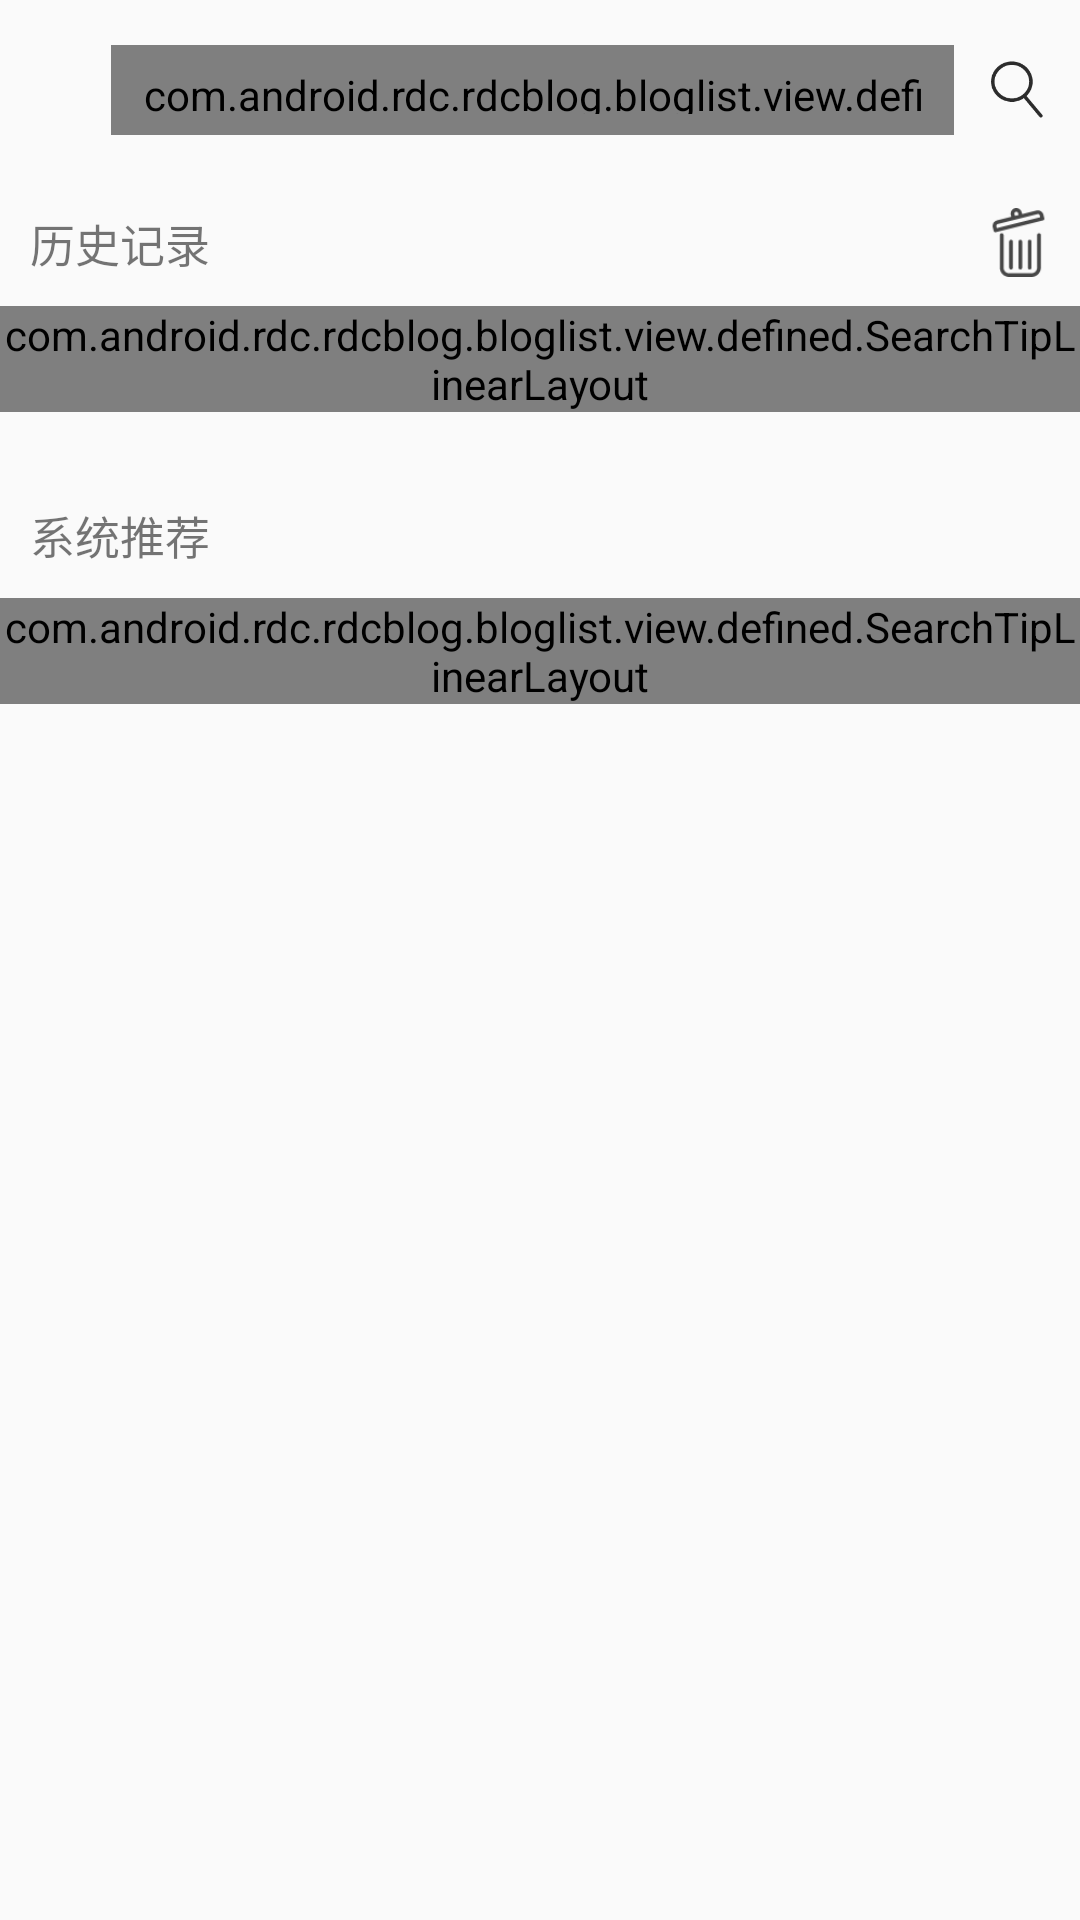

Screen size 1080px×1920px. Icon name, then its center in pixels as (x=x, y=y):
bloglist history delete: (x=1018, y=242)
bloglist search: (x=1017, y=89)
